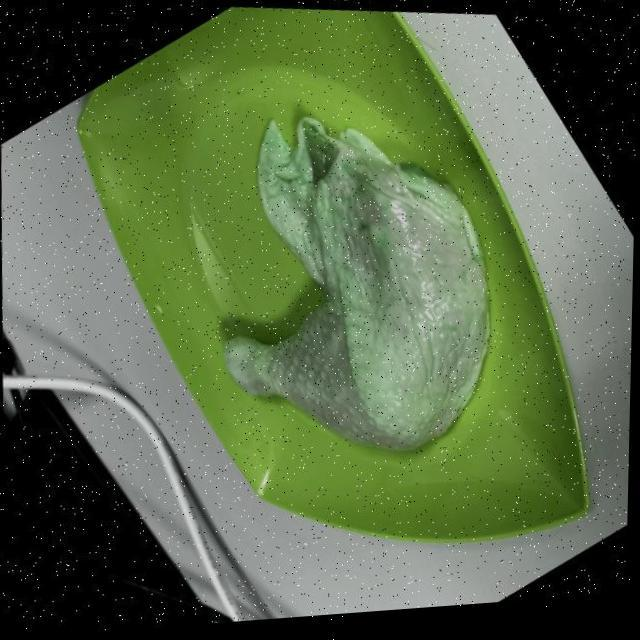quater: (223, 126, 480, 468)
